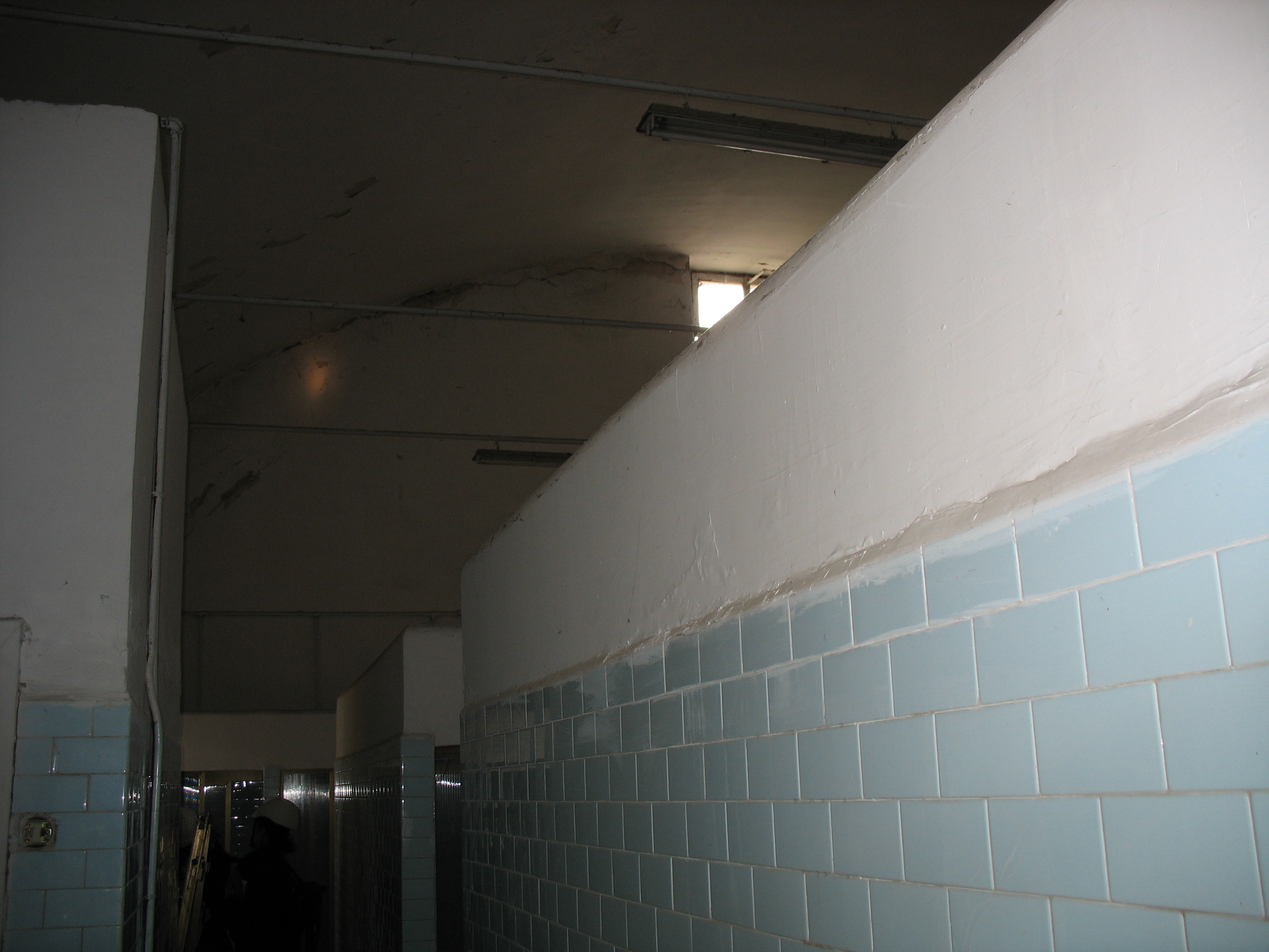Crack: (185, 248, 691, 411)
Spalling: (182, 163, 389, 287), (187, 439, 285, 538)
